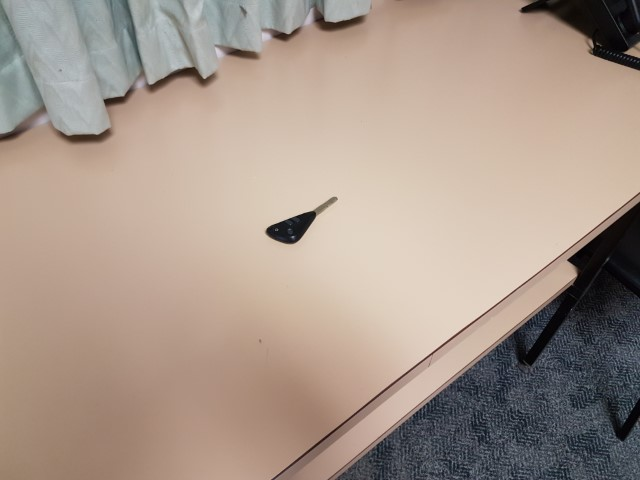key: (264, 193, 340, 244)
